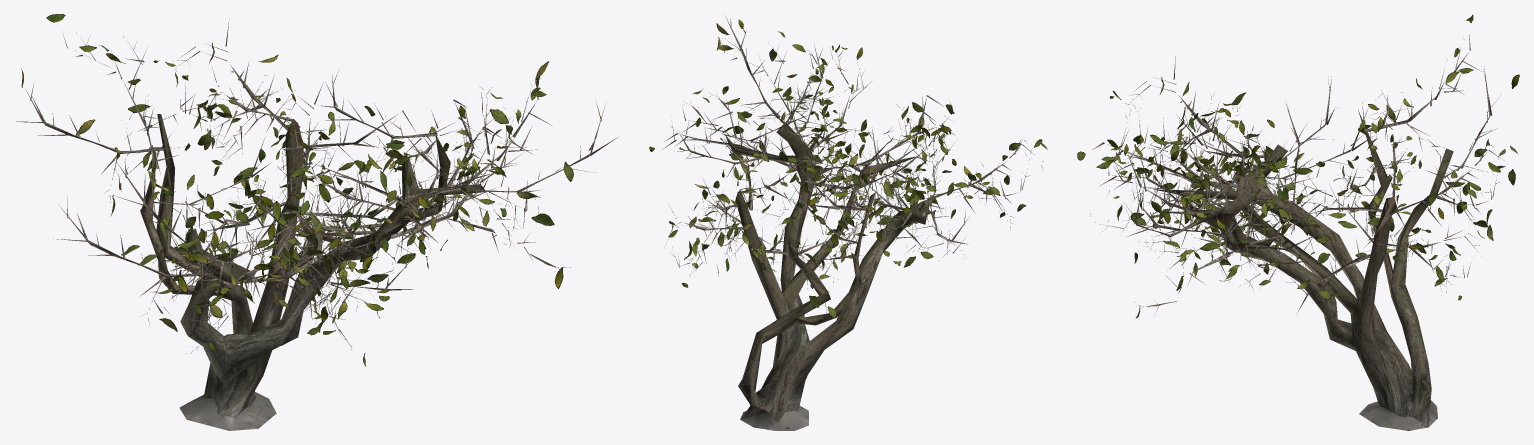
Rendered from island_tree_02.glb.
3 views of the same model, side by side, from view 1: azimuth 30°, elevation 25°; view 2: azimuth 150°, elevation 25°; view 3: azimuth 270°, elevation 25° (orthographic). The views are drawn at different scales.
Parts seen in each view (by area): view 1: island_tree_02_LOD0.001, island_tree_02_LOD0, island_tree_02_LOD0.002; view 2: island_tree_02_LOD0.001, island_tree_02_LOD0, island_tree_02_LOD0.002; view 3: island_tree_02_LOD0.001, island_tree_02_LOD0, island_tree_02_LOD0.002.
Part boxes in pixels (left/top/right/bottom): island_tree_02_LOD0.001: left=140, top=114, right=484, bottom=430; island_tree_02_LOD0: left=16, top=19, right=617, bottom=353; island_tree_02_LOD0.002: left=21, top=14, right=573, bottom=366; island_tree_02_LOD0.001: left=725, top=114, right=931, bottom=430; island_tree_02_LOD0: left=662, top=16, right=1043, bottom=313; island_tree_02_LOD0.002: left=649, top=19, right=1047, bottom=318; island_tree_02_LOD0.001: left=1153, top=110, right=1453, bottom=430; island_tree_02_LOD0: left=1090, top=35, right=1504, bottom=323; island_tree_02_LOD0.002: left=1077, top=14, right=1519, bottom=318.
Size of the model in its own units: 4.01 by 3.41 by 4.
Materials: 3 (3 with a texture image).
